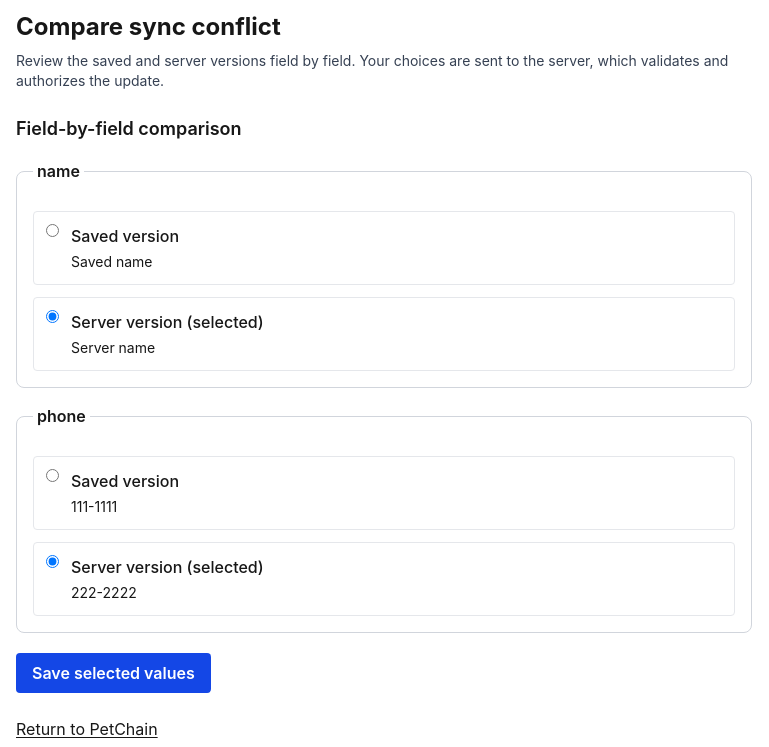
Test case: SyncConflictPage › compares each field and submits explicitly selected values
Expected: the heading "Field-by-field comparison" is shown, [16,118,242,139]
Expected: the text "Saved name" is shown, [71,253,152,270]
Click the radio button labelled "Saved version Saved name" at x=52, y=230, box [46,224,59,237]
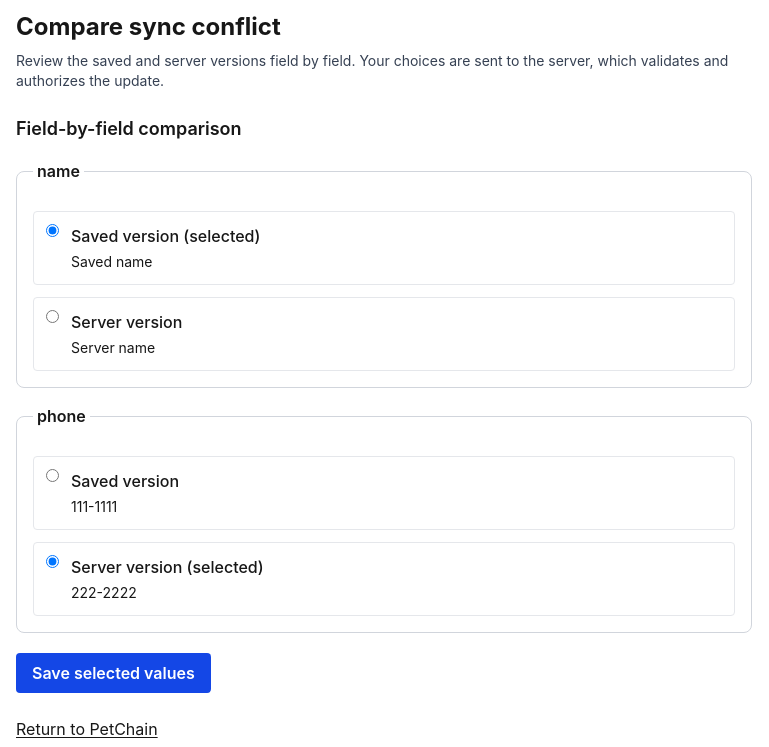
Click the button "Save selected values" at x=113, y=673, box [16,653,211,693]
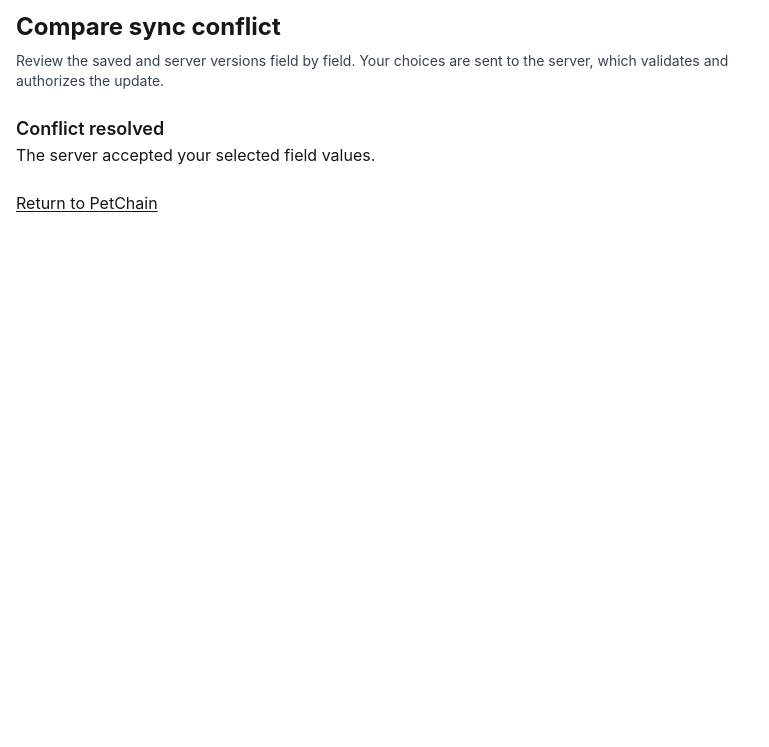
Expected: the heading "Conflict resolved" is shown, [16,118,164,139]
